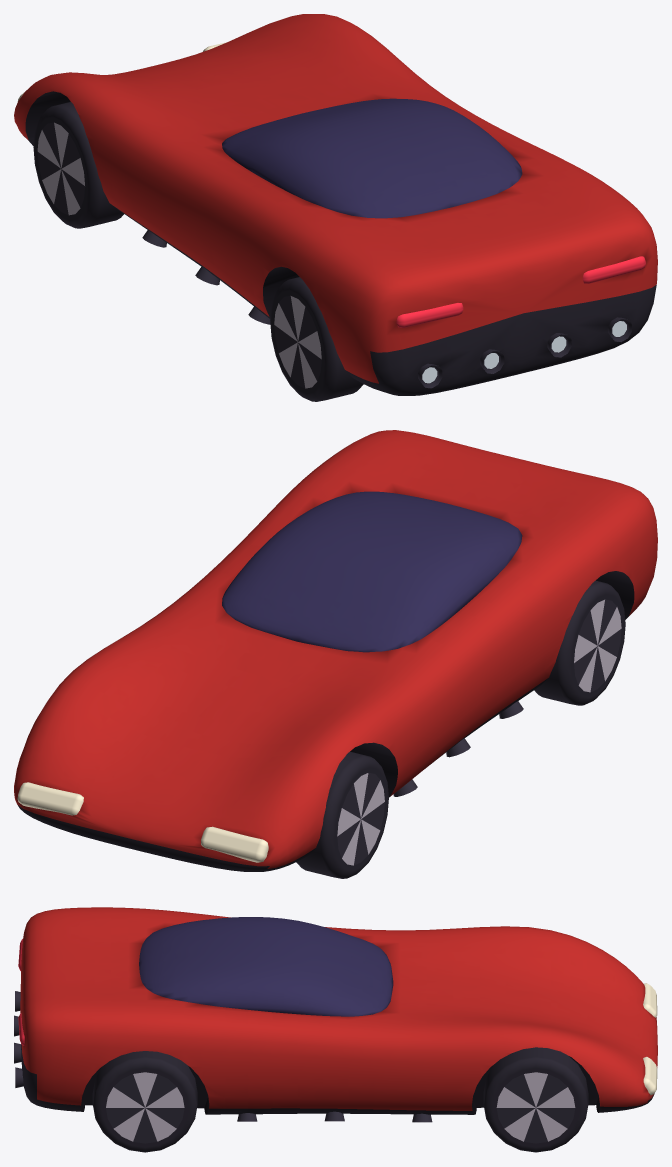
The model's file is roadster.glb.
3 views of the same model, one above another, from view 1: azimuth 30°, elevation 25°; view 2: azimuth 150°, elevation 25°; view 3: azimuth 270°, elevation 25° (orthographic). The views are drawn at different scales.
Parts seen in each view (by area): view 1: body, glass, wheel_fl_mesh, wheel_rl_mesh, lights; view 2: body, glass, wheel_fl_mesh, wheel_rl_mesh, lights; view 3: body, glass, wheel_fr_mesh, wheel_rr_mesh, lights.
Boxes of the visible parts, <box> form: body: <box>14,14,657,395</box>; glass: <box>222,98,522,218</box>; wheel_fl_mesh: <box>33,102,123,228</box>; wheel_rl_mesh: <box>270,277,363,401</box>; lights: <box>17,42,645,327</box>; body: <box>14,430,657,871</box>; glass: <box>222,491,522,652</box>; wheel_fl_mesh: <box>296,751,388,878</box>; wheel_rl_mesh: <box>534,580,625,705</box>; lights: <box>17,782,268,862</box>; body: <box>20,907,657,1114</box>; glass: <box>139,917,393,1016</box>; wheel_fr_mesh: <box>483,1047,588,1152</box>; wheel_rr_mesh: <box>92,1051,197,1152</box>; lights: <box>18,939,657,1095</box>.
Size of the model in its own units: 2.01 by 1.15 by 4.42.
